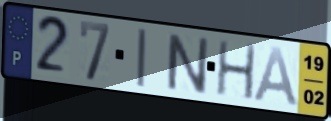2: (33, 14, 73, 82)
7: (77, 19, 113, 84)
A: (251, 44, 302, 110)
H: (214, 39, 258, 103)
I: (135, 26, 149, 90)
N: (165, 31, 210, 97)
